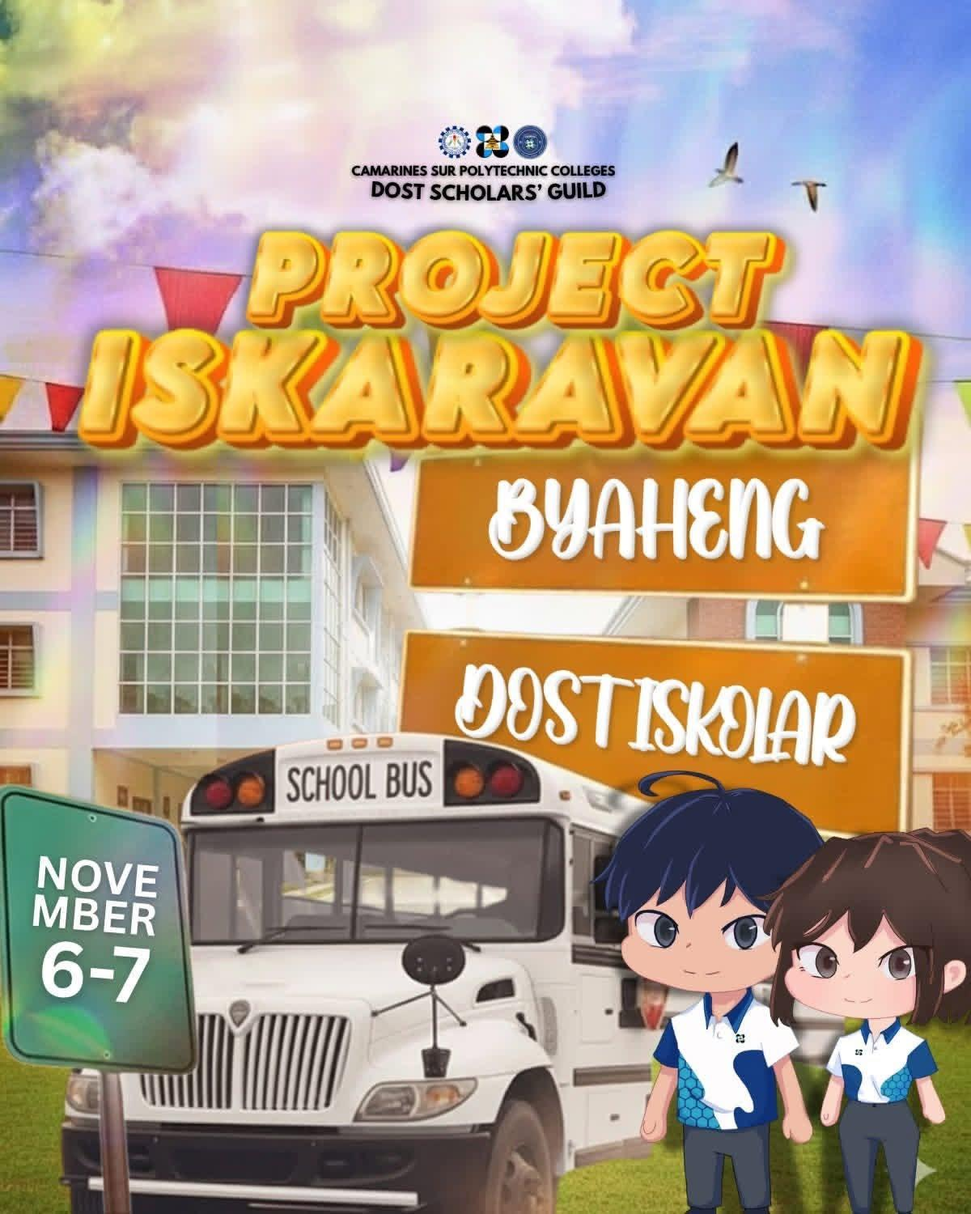embellishment: (59, 725, 694, 1212), (592, 771, 970, 1209), (0, 786, 198, 1206), (703, 140, 751, 194), (790, 169, 835, 216)
logo: (513, 124, 548, 159), (475, 124, 510, 159), (438, 124, 472, 159)
text: (67, 216, 935, 451), (443, 650, 867, 771), (483, 468, 840, 569), (23, 841, 171, 1011), (347, 157, 625, 202)
underlay: (395, 636, 911, 824), (410, 417, 920, 598)
